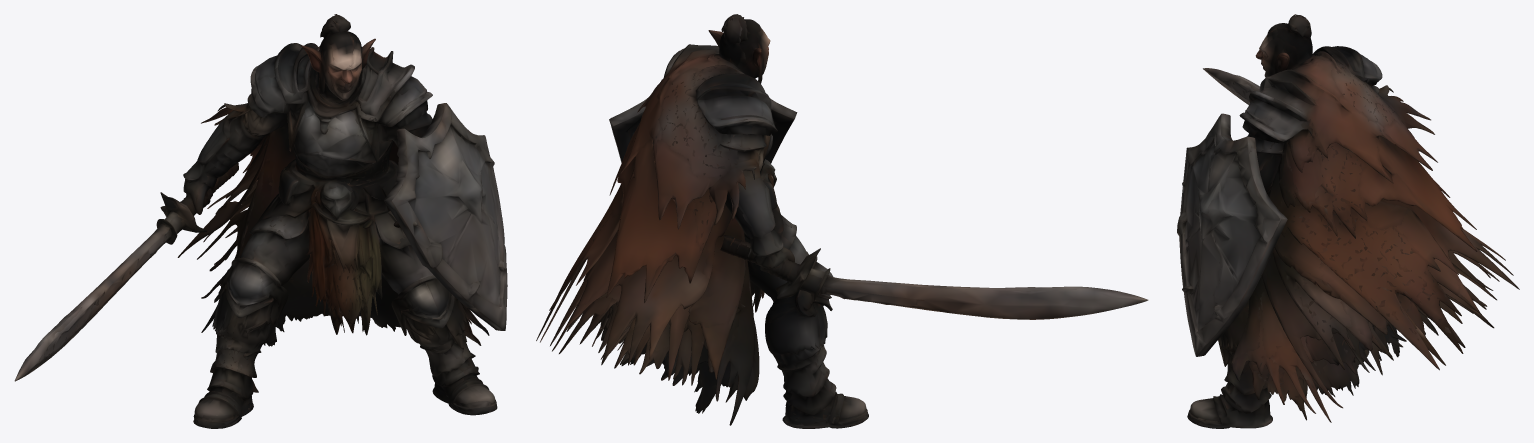
File: hobgoblin.glb
The picture shows the model from 3 angles, left to right: view 1: azimuth 30°, elevation 25°; view 2: azimuth 150°, elevation 25°; view 3: azimuth 270°, elevation 25°; orthographic projection. The views are drawn at different scales.
Parts seen in each view (by area): view 1: material; view 2: material; view 3: material.
Part boxes in pixels (bbox=[...]): material: bbox=[14, 14, 507, 428]; material: bbox=[536, 14, 1148, 428]; material: bbox=[1177, 14, 1519, 428].
Bounding box in the file's own units: 0.9674 × 0.6897 × 0.5898.
1 material, 1 textured.
